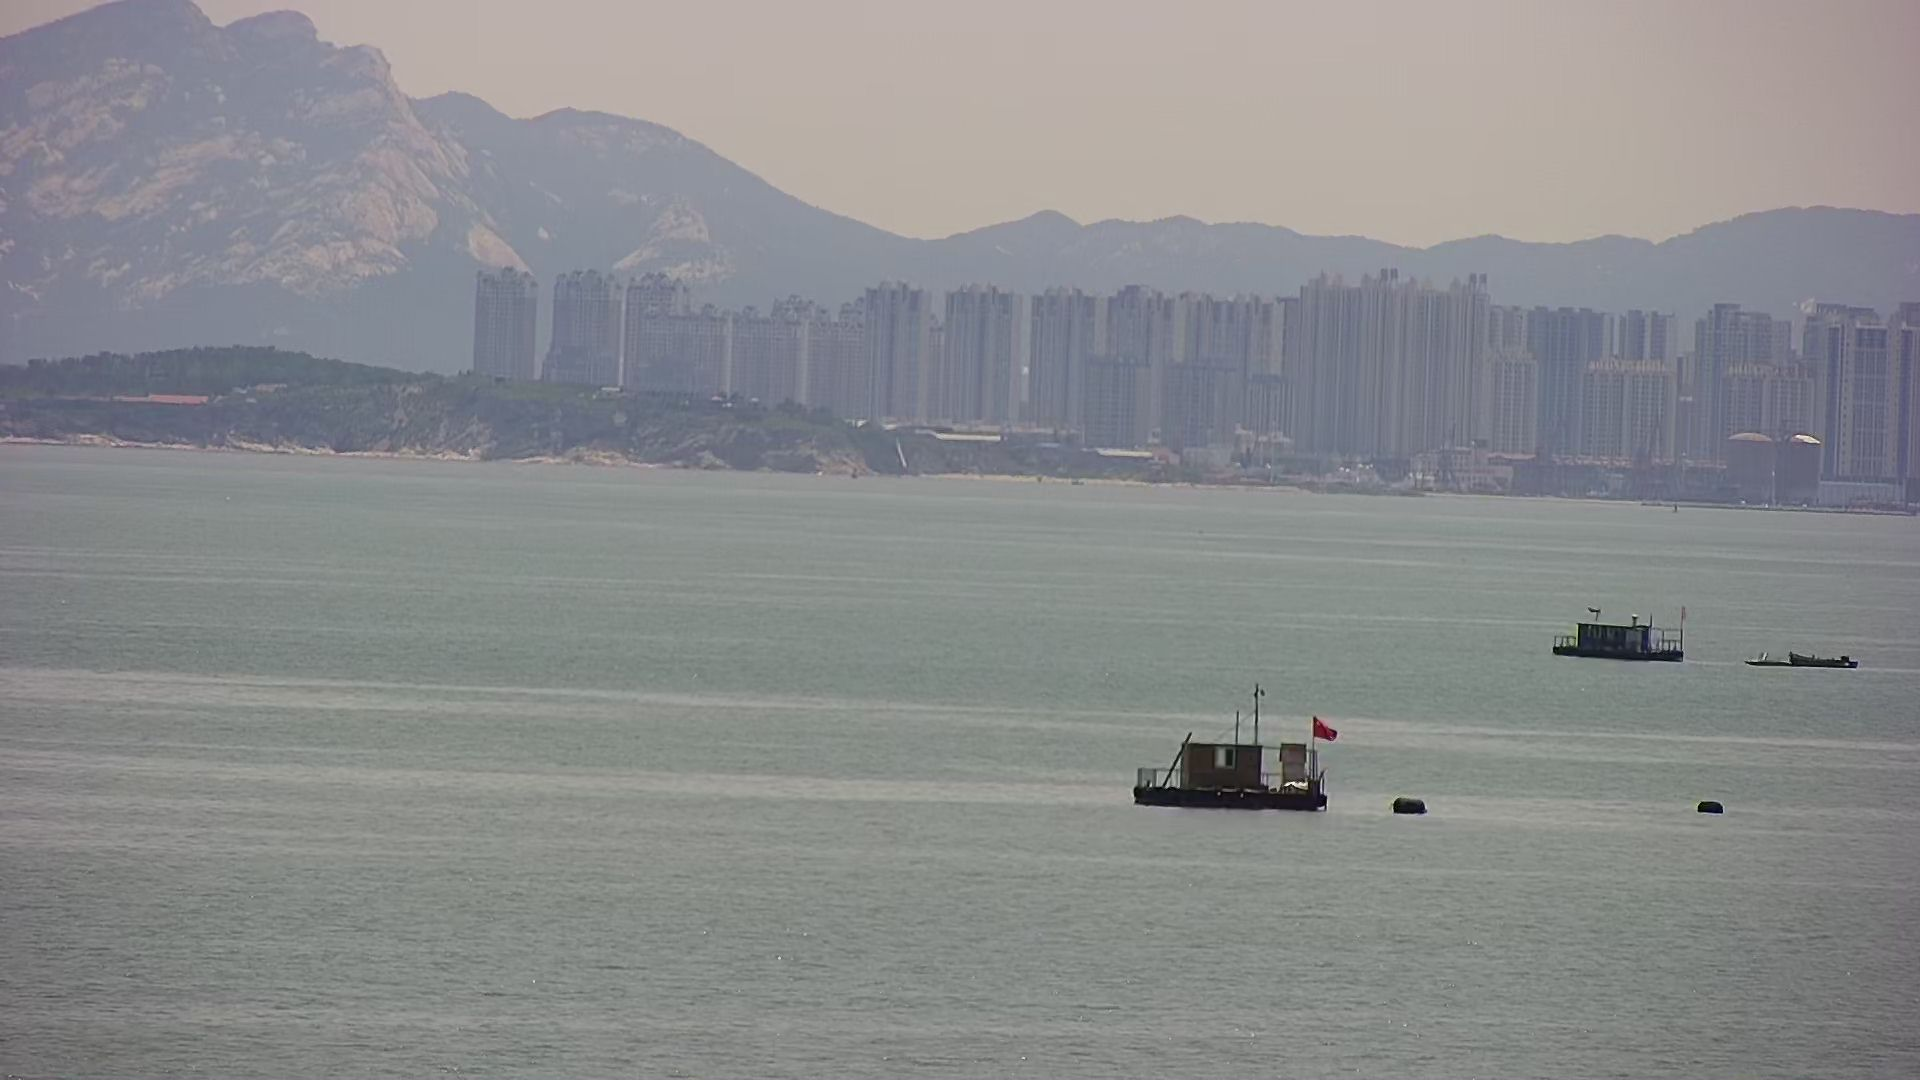ball: (1389, 796, 1433, 811), (1693, 798, 1726, 814)
boat: (1745, 649, 1866, 673)
platform: (1134, 680, 1338, 814), (1552, 603, 1687, 663)
